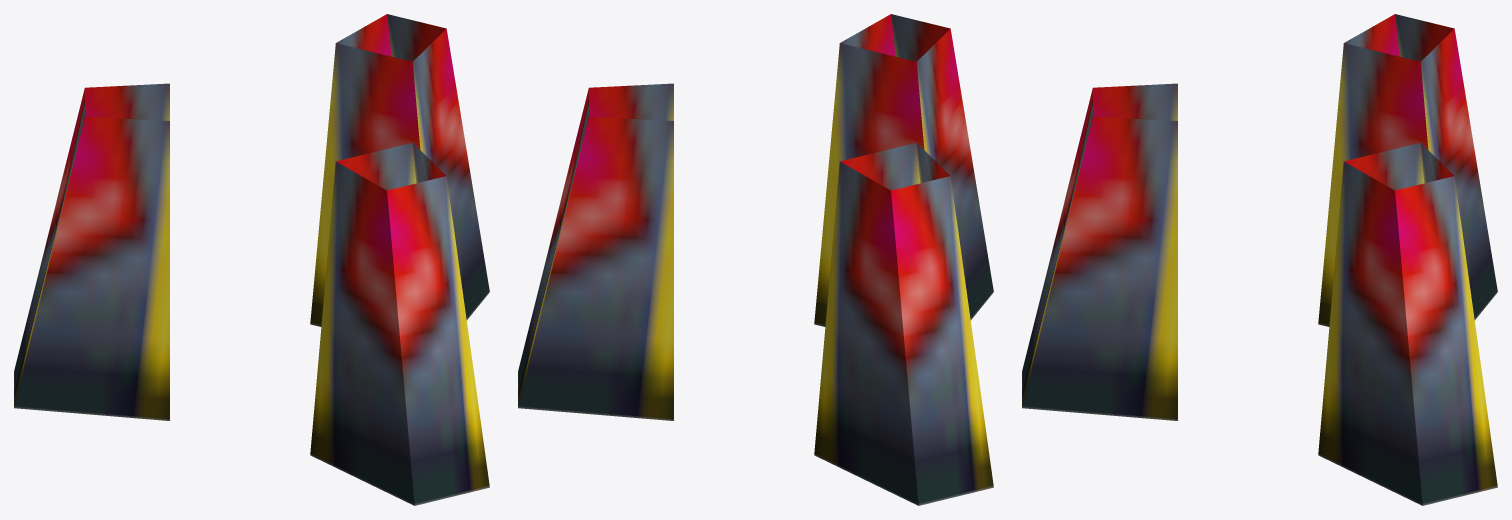
The model's file is datan_common_acptwr3_af81dda4.obj.
The picture shows the model from 3 angles, left to right: view 1: azimuth 30°, elevation 25°; view 2: azimuth 150°, elevation 25°; view 3: azimuth 270°, elevation 25°; orthographic projection.
Visible parts, largest first — view 1: datan_common_acptwr3_af81dda4; view 2: datan_common_acptwr3_af81dda4; view 3: datan_common_acptwr3_af81dda4.
Boxes of the visible parts, bbox=[...] form: datan_common_acptwr3_af81dda4: bbox=[14, 14, 489, 505]; datan_common_acptwr3_af81dda4: bbox=[518, 14, 993, 505]; datan_common_acptwr3_af81dda4: bbox=[1022, 14, 1497, 505].
Size of the model in its own units: 1.34 by 0.7756 by 1.16.
Materials: 1 (1 with a texture image).
